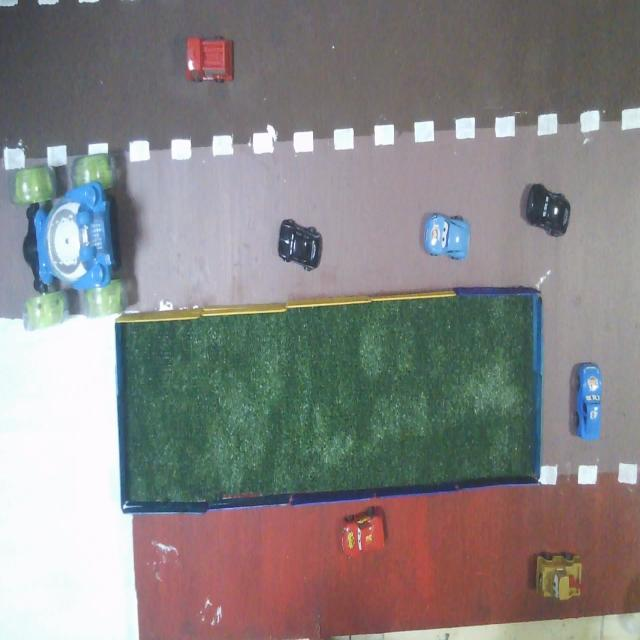driver car f: (12, 155, 125, 330)
small cars: (526, 184, 570, 236), (278, 220, 321, 270), (536, 553, 581, 600), (342, 507, 384, 557), (424, 214, 470, 259), (187, 37, 233, 82), (576, 363, 602, 440)
